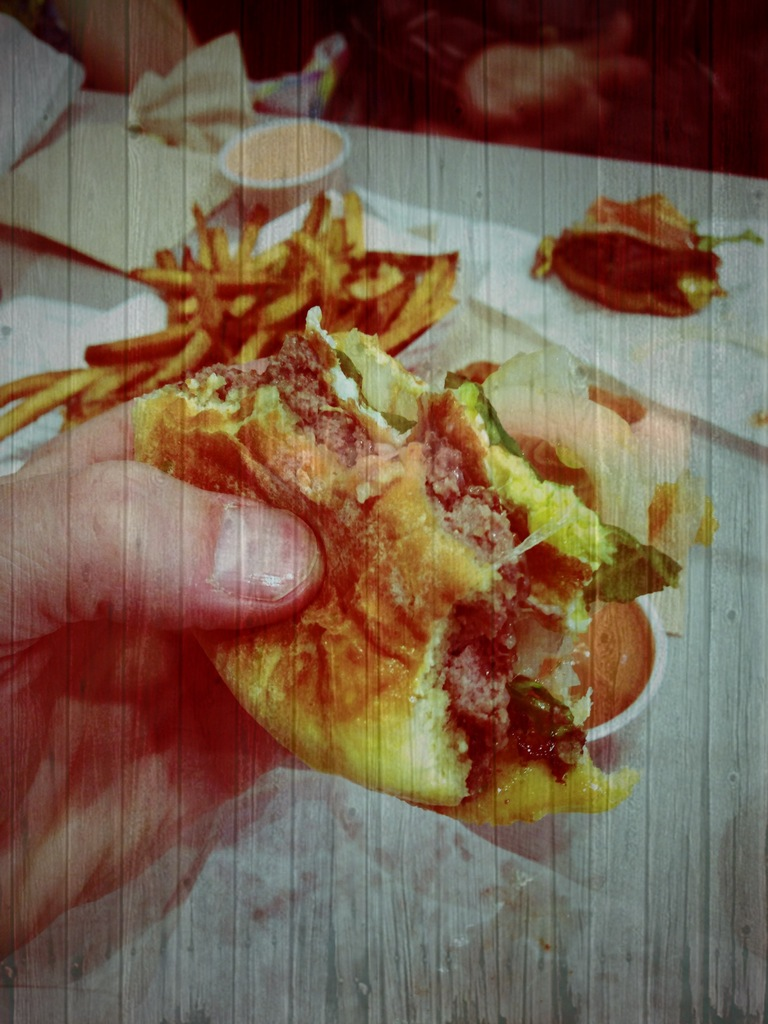Pizza: (28, 135, 673, 882)
